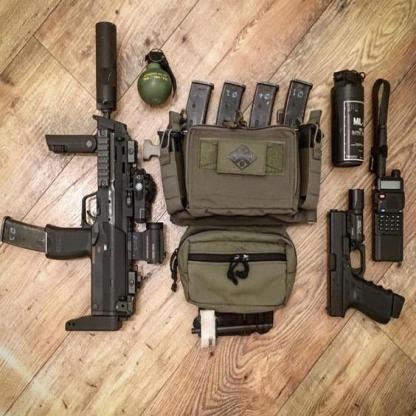Grenade: (330, 66, 366, 169), (138, 47, 178, 106)
Gun: (1, 20, 166, 335)
Pistol: (324, 184, 406, 326)
